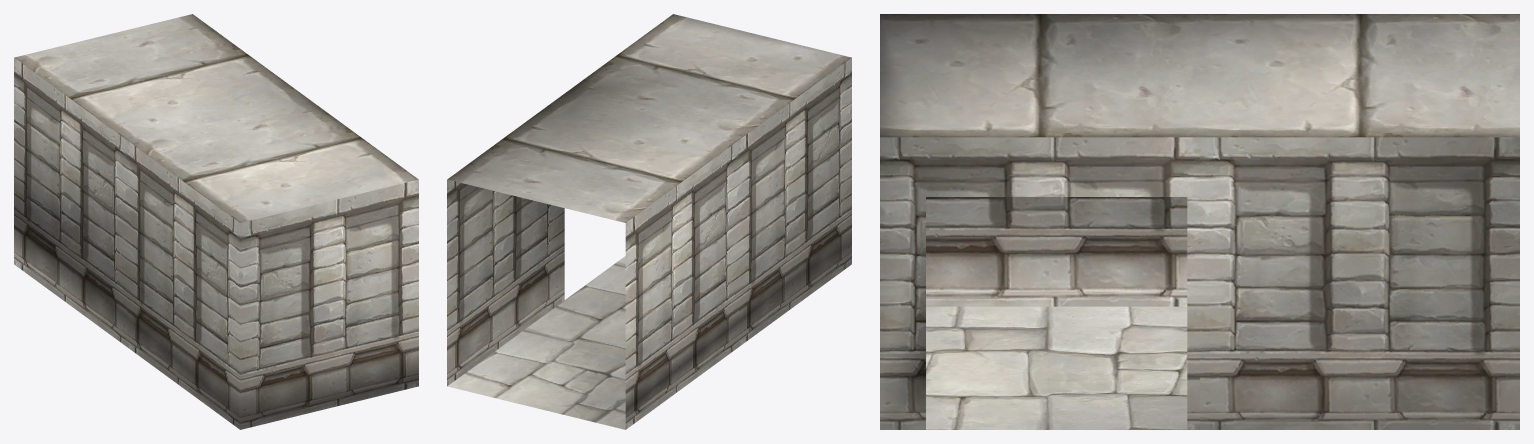
File: stormwind_204.fbx
3 renders of one model, left to right at view 1: azimuth 30°, elevation 25°; view 2: azimuth 150°, elevation 25°; view 3: azimuth 270°, elevation 25°, orthographic. The views are drawn at different scales.
Visible parts, largest first — view 1: stormwind_204_60, stormwind_204_40; view 2: stormwind_204_60, stormwind_204_40, stormwind_204_52; view 3: stormwind_204_60, stormwind_204_40, stormwind_204_52.
Boxes of the visible parts, x1=… form: stormwind_204_60: x1=14, y1=57, x2=418, y2=429; stormwind_204_40: x1=14, y1=14, x2=418, y2=222; stormwind_204_60: x1=447, y1=57, x2=851, y2=429; stormwind_204_40: x1=447, y1=14, x2=851, y2=222; stormwind_204_52: x1=447, y1=256, x2=625, y2=429; stormwind_204_60: x1=880, y1=137, x2=1519, y2=429; stormwind_204_40: x1=880, y1=14, x2=1519, y2=137; stormwind_204_52: x1=926, y1=306, x2=1187, y2=429.
Bounding box in the file's own units: 7.52 × 8.33 × 16.5.
